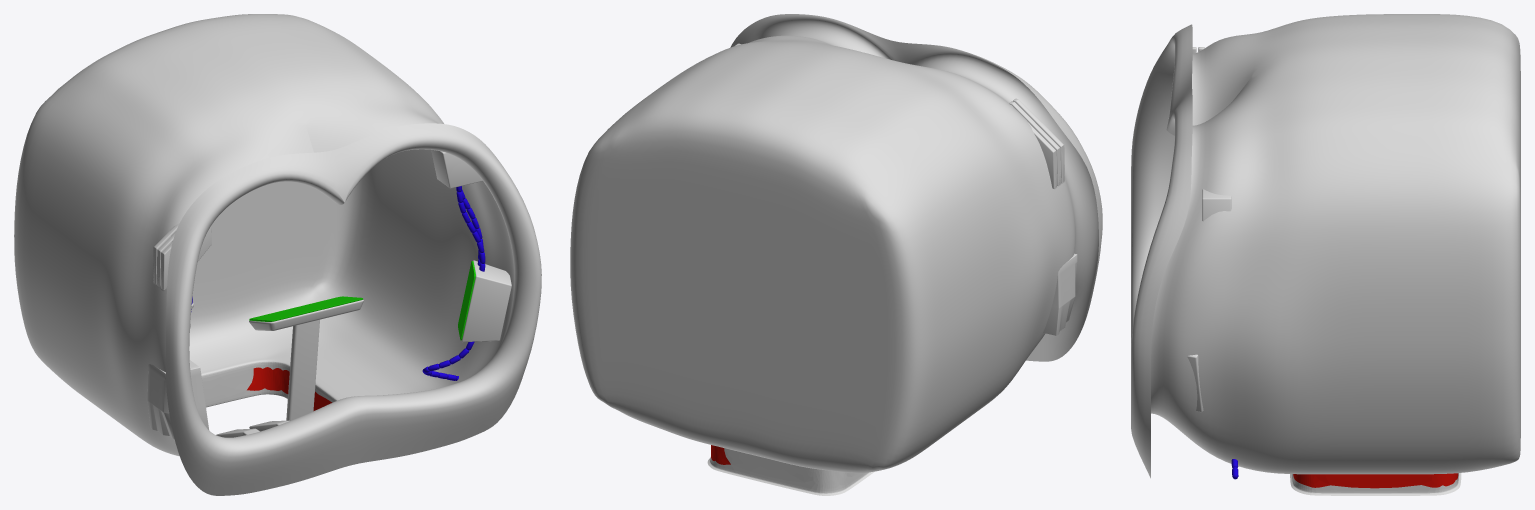
Rendered from ShipInterior.fbx.
3 views of the same model, side by side, from view 1: azimuth 30°, elevation 25°; view 2: azimuth 150°, elevation 25°; view 3: azimuth 270°, elevation 25° (orthographic). The views are drawn at different scales.
Visible parts, largest first — view 1: ShipInterior; view 2: ShipInterior; view 3: ShipInterior.
Boxes of the visible parts, x1,y1,x2,y2 form: ShipInterior: (14, 14, 541, 495); ShipInterior: (570, 14, 1102, 495); ShipInterior: (1131, 14, 1520, 495).
Size of the model in its own units: 280 by 273 by 235.
